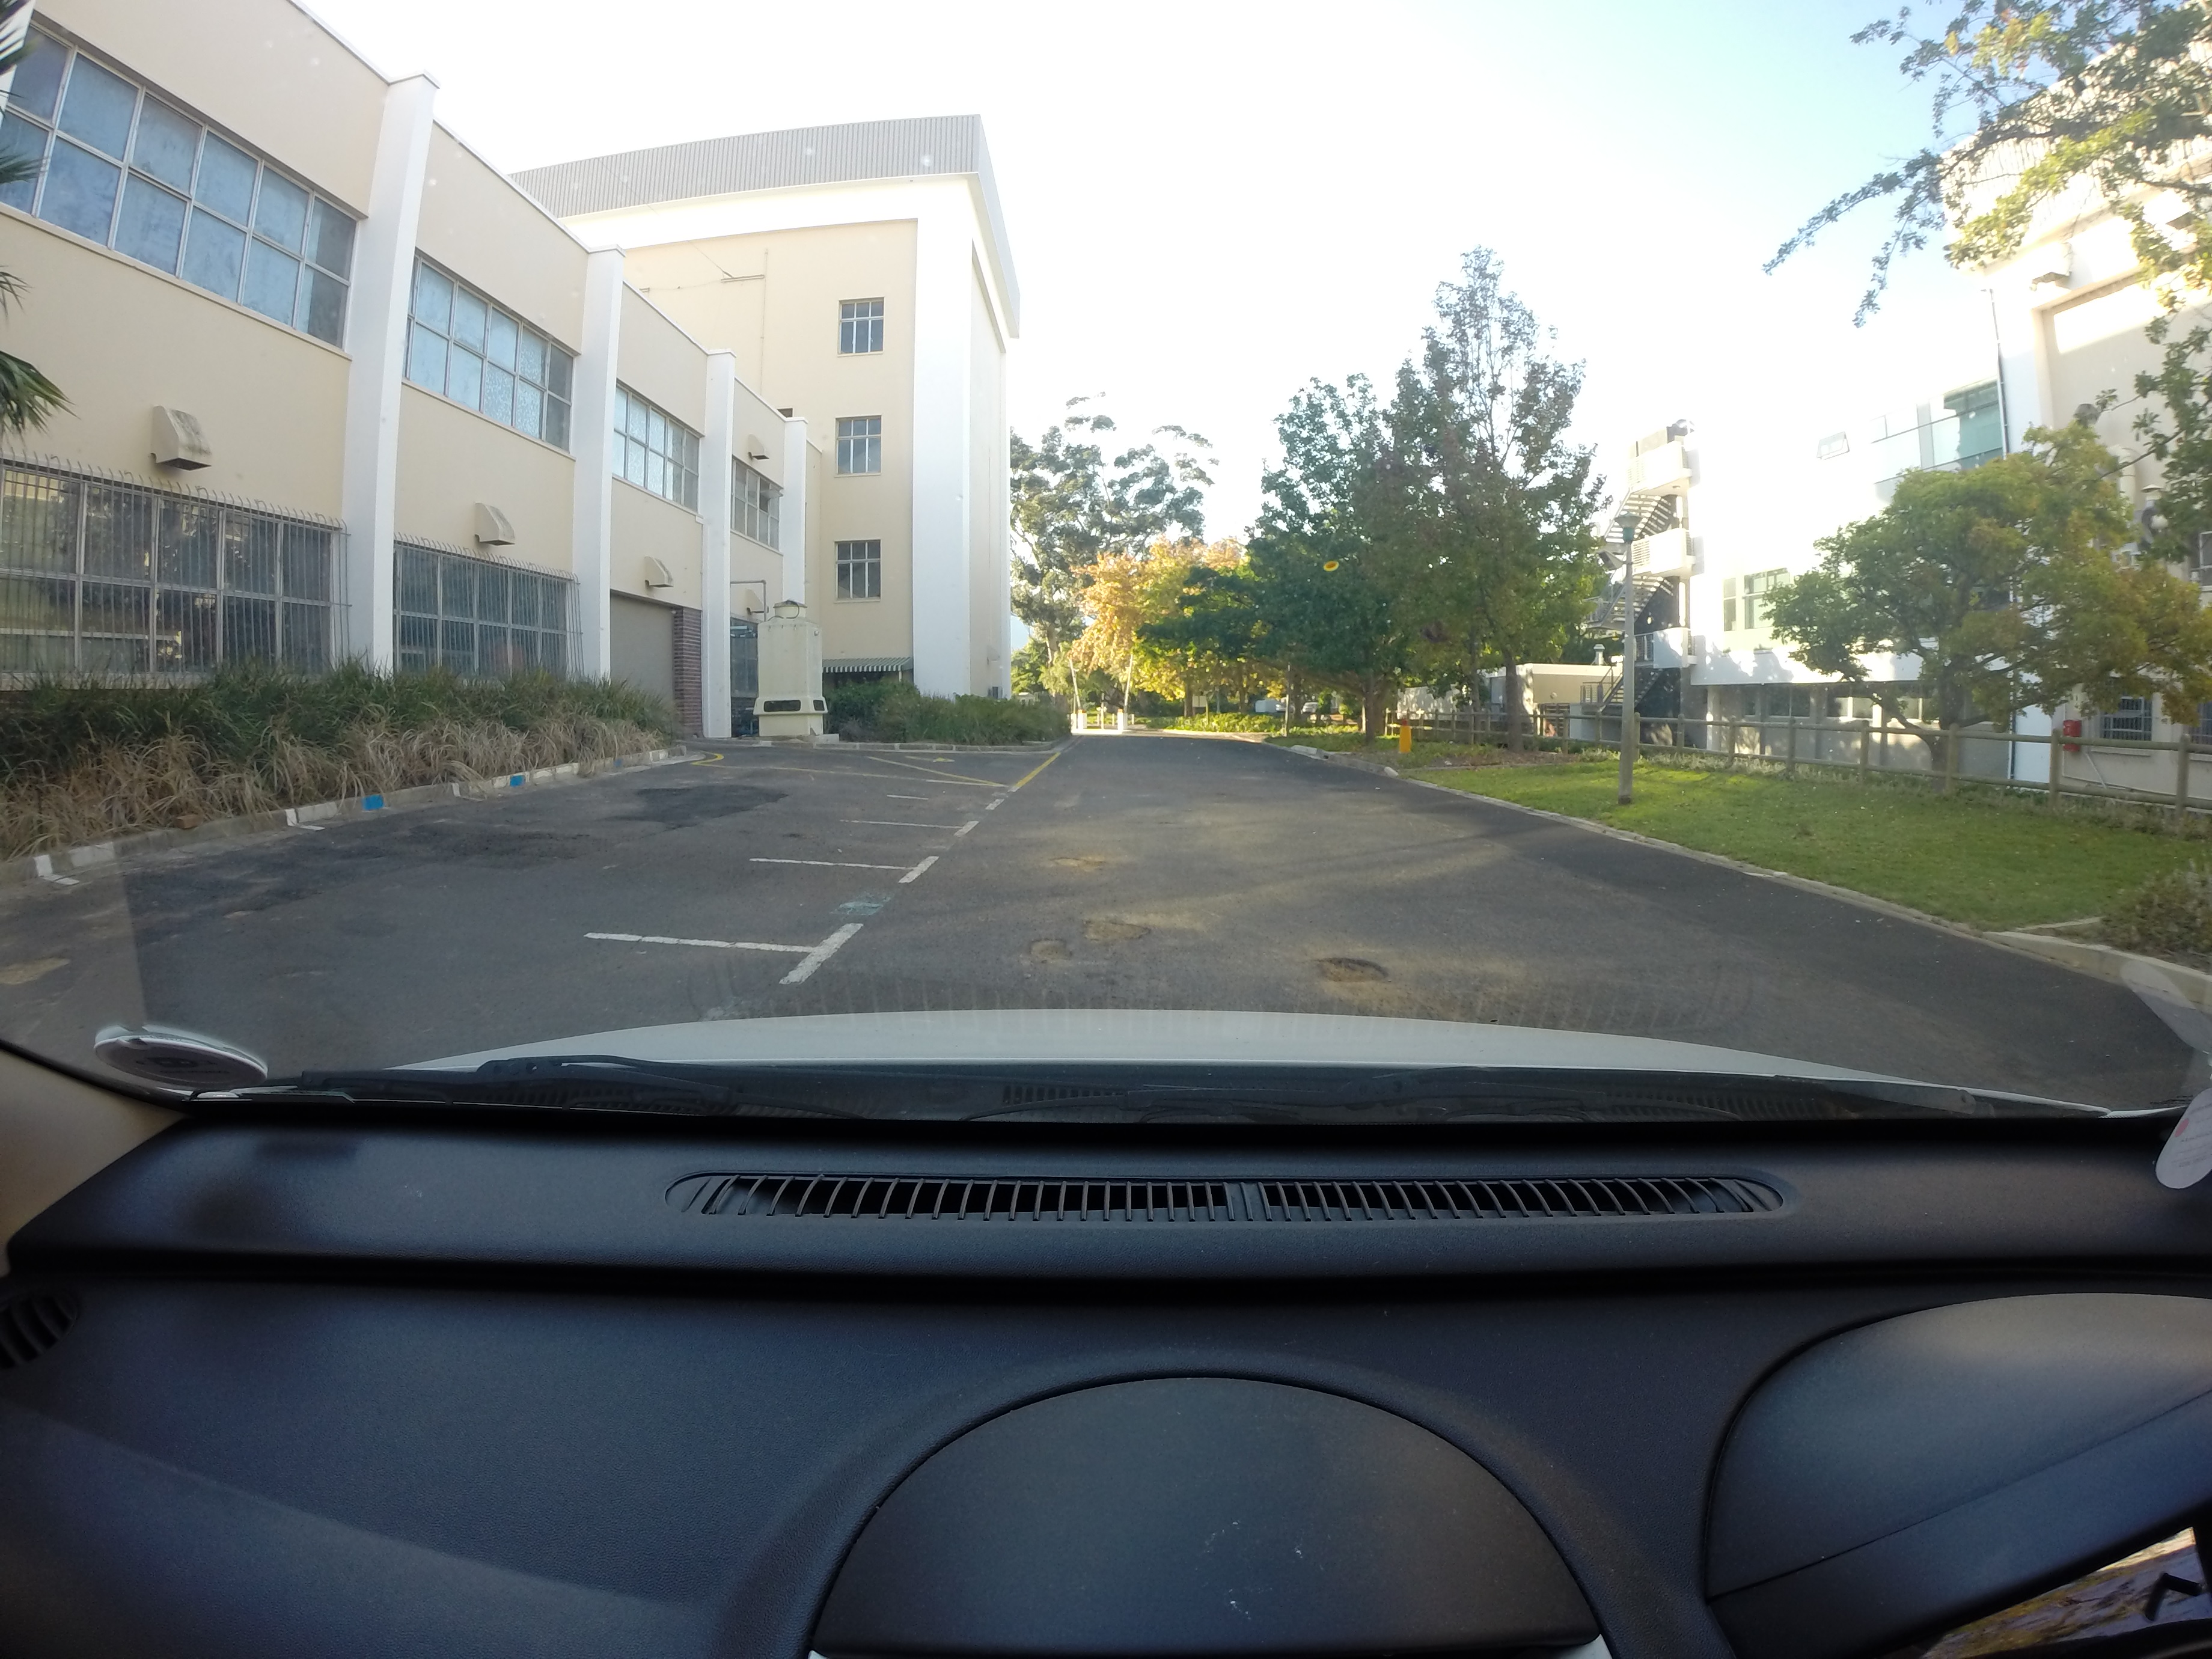pothole: (1012, 918, 1184, 965), (1299, 941, 1407, 999), (3, 946, 84, 993)
